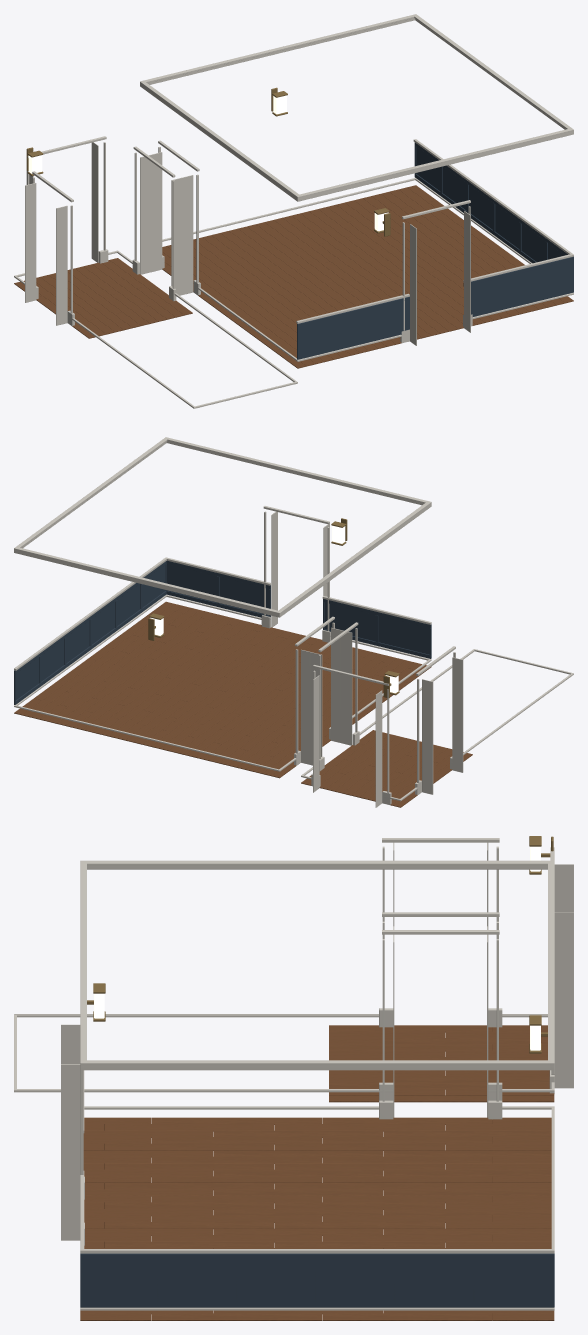
File: foyer-client-details-v002.glb
3 views of the same model, one above another, from view 1: azimuth 30°, elevation 25°; view 2: azimuth 150°, elevation 25°; view 3: azimuth 270°, elevation 25° (orthographic). The views are drawn at different scales.
Parts seen in each view (by area): view 1: Export foyer oak board 0-0; view 2: Export foyer oak board 0-0; view 3: Export foyer oak board 0-0.
Boxes of the visible parts, x1=… form: Export foyer oak board 0-0: x1=14, y1=14, x2=573, y2=408; Export foyer oak board 0-0: x1=14, y1=437, x2=573, y2=807; Export foyer oak board 0-0: x1=14, y1=836, x2=573, y2=1320.
Bounding box in the file's own units: 7.56 × 3 × 5.9.
5 materials, 1 textured.
